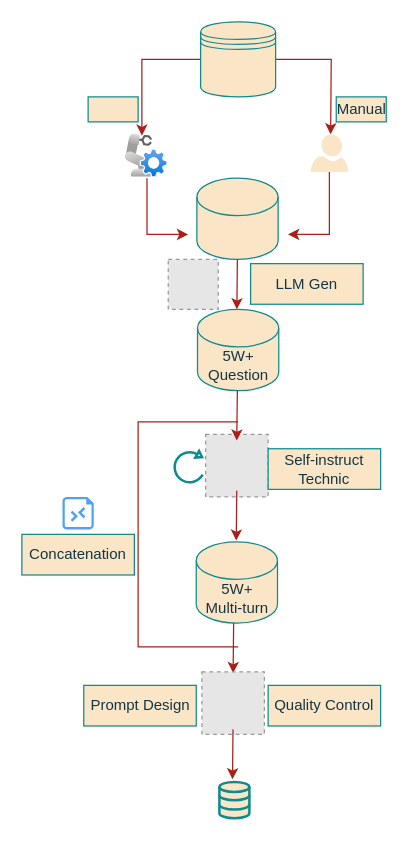
Some shapes in this 409 by 866 pixel diagram are drawn without their labels. Grey dashed boxes stand in for pictures. The shapes that lost their labels are listed below. From the top down, each one's box as (x1, y1, x2, y2) in pixels, then its label:
(199, 21, 276, 97): 1000+ Raw
(87, 96, 138, 122): Code
(196, 177, 278, 259): 200 Seed + KV
(218, 780, 250, 819): 1W+ Data
